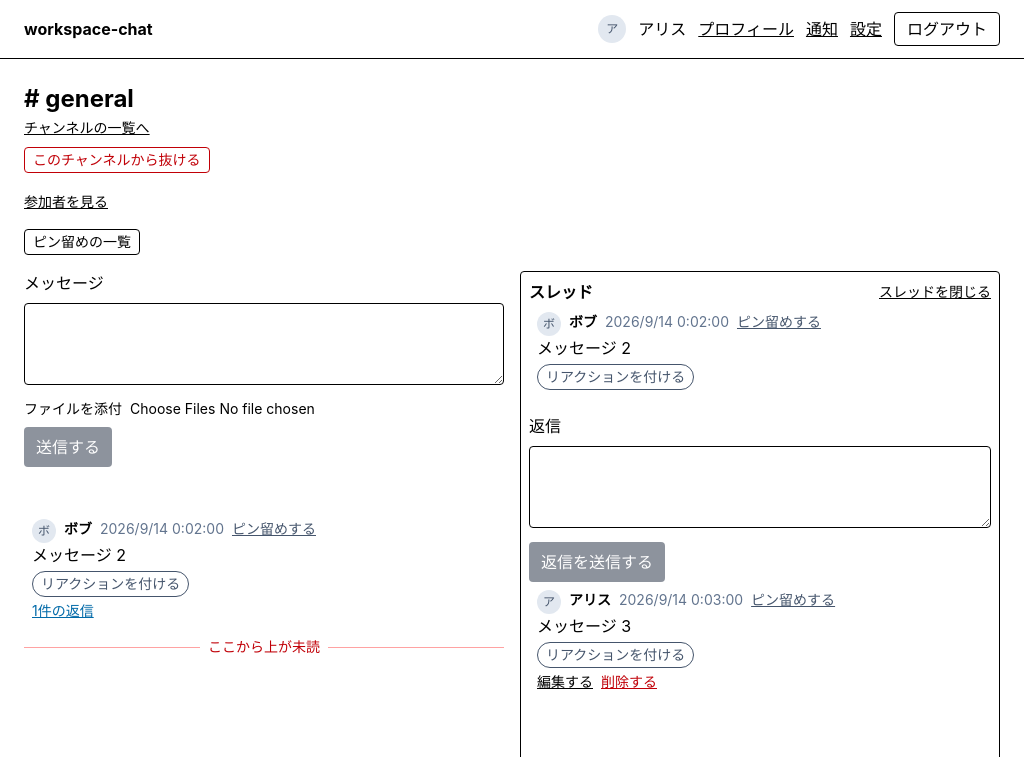
Test: 編集（F-13） › スレッドの返信を編集すると、スレッドの中で置き換える
This screenshot has width=1024, height=757.
Click the button "編集する": (565, 682) [537,672,593,692]
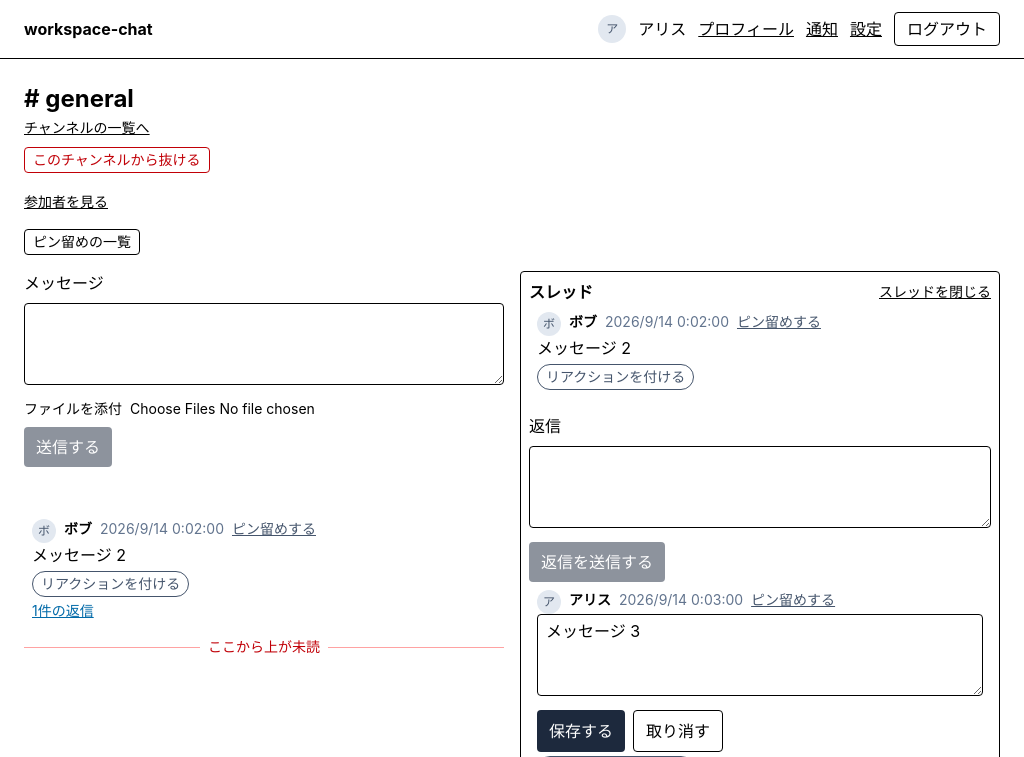
Replace the text in the dropdown named "メッセージを編集" with "返信を直した": (760, 655) [537,614,983,696]
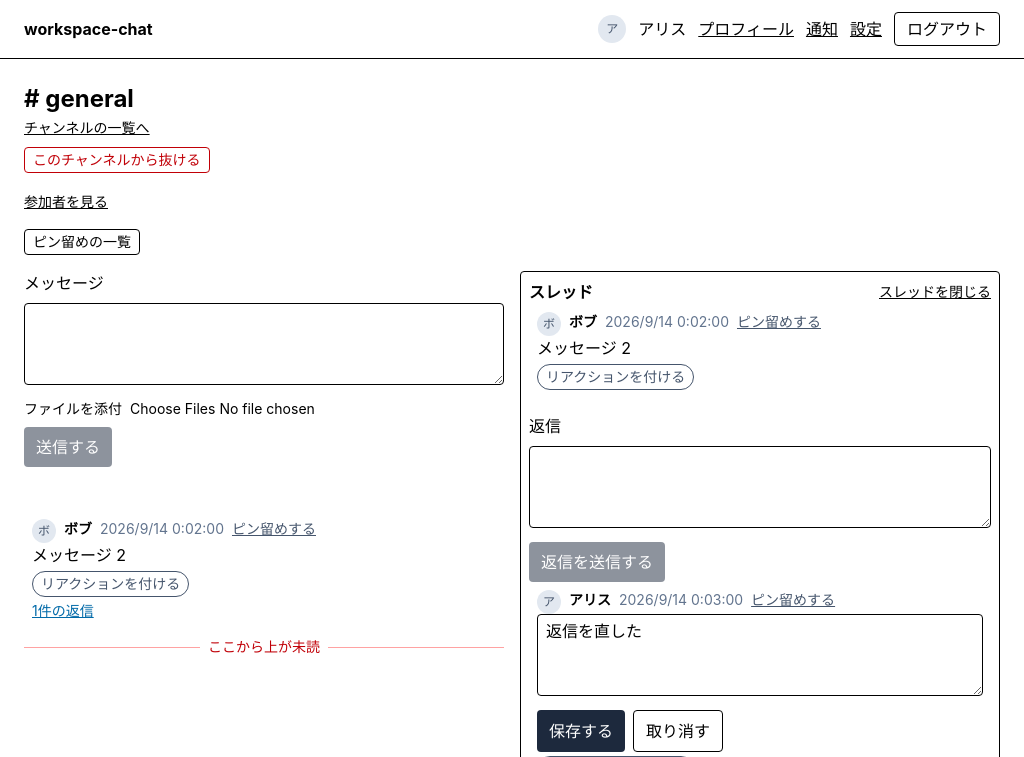
Click the button "保存する": (581, 731) [537,710,625,752]
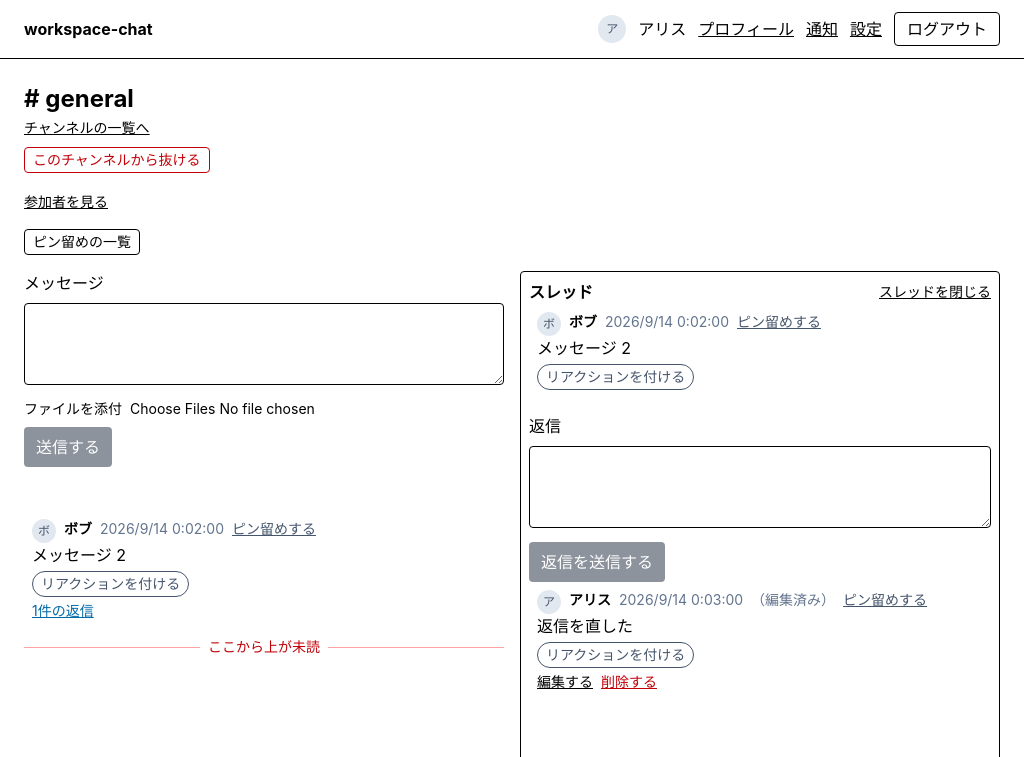
Check: the field labelled "メッセージを編集" is not shown
Check: the text "返信を直した" is shown, box [537,616,633,636]
